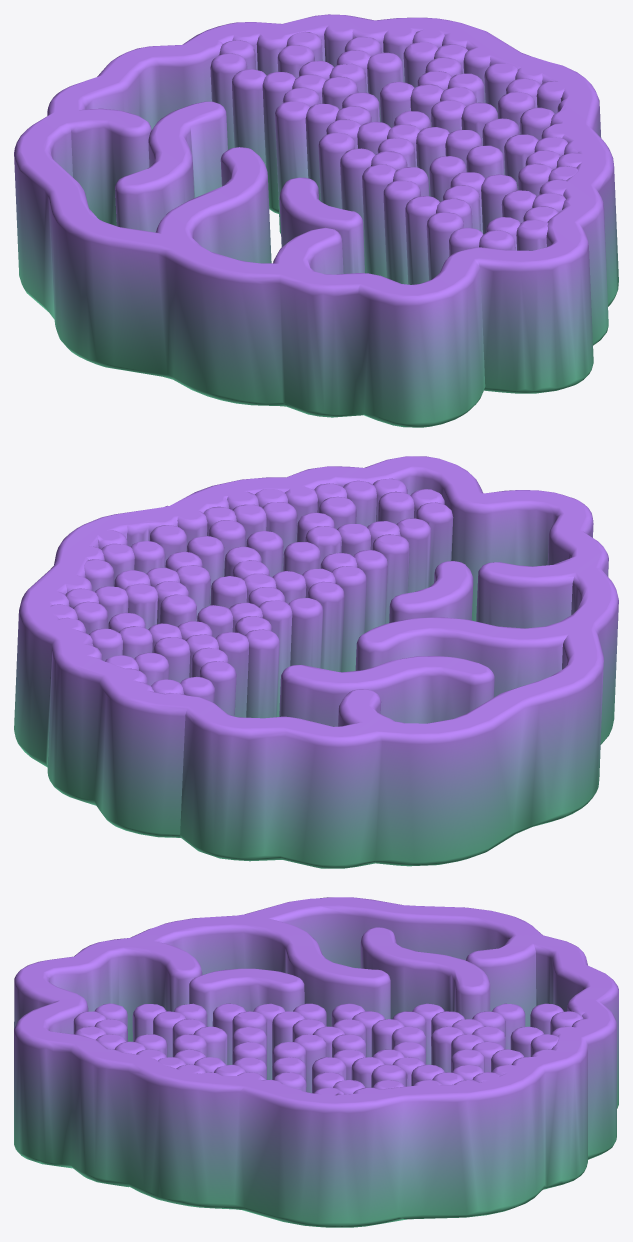
File: brain3d.glb
The picture shows the model from 3 angles, top to bottom: view 1: azimuth 30°, elevation 25°; view 2: azimuth 150°, elevation 25°; view 3: azimuth 270°, elevation 25°; orthographic projection. The views are drawn at different scales.
Size of what is drawn, in the model's own units: 0.4702 by 0.1335 by 0.5116.
1 material, 1 textured.
